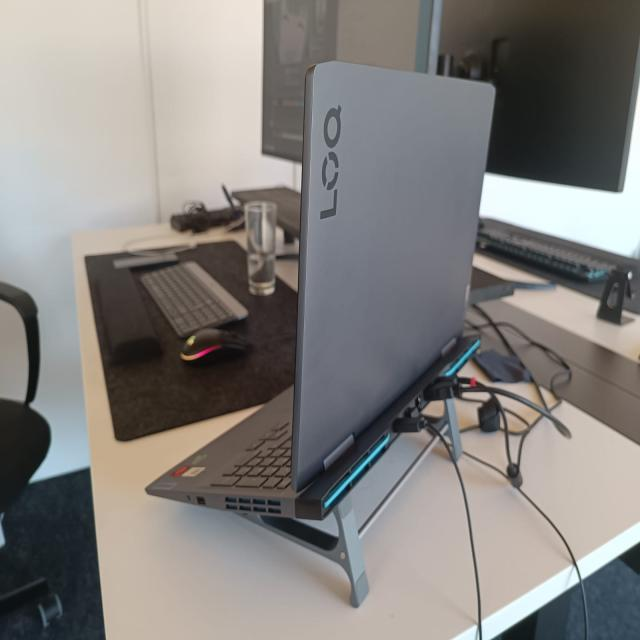Laptops_bbox: (106, 56, 601, 578)
